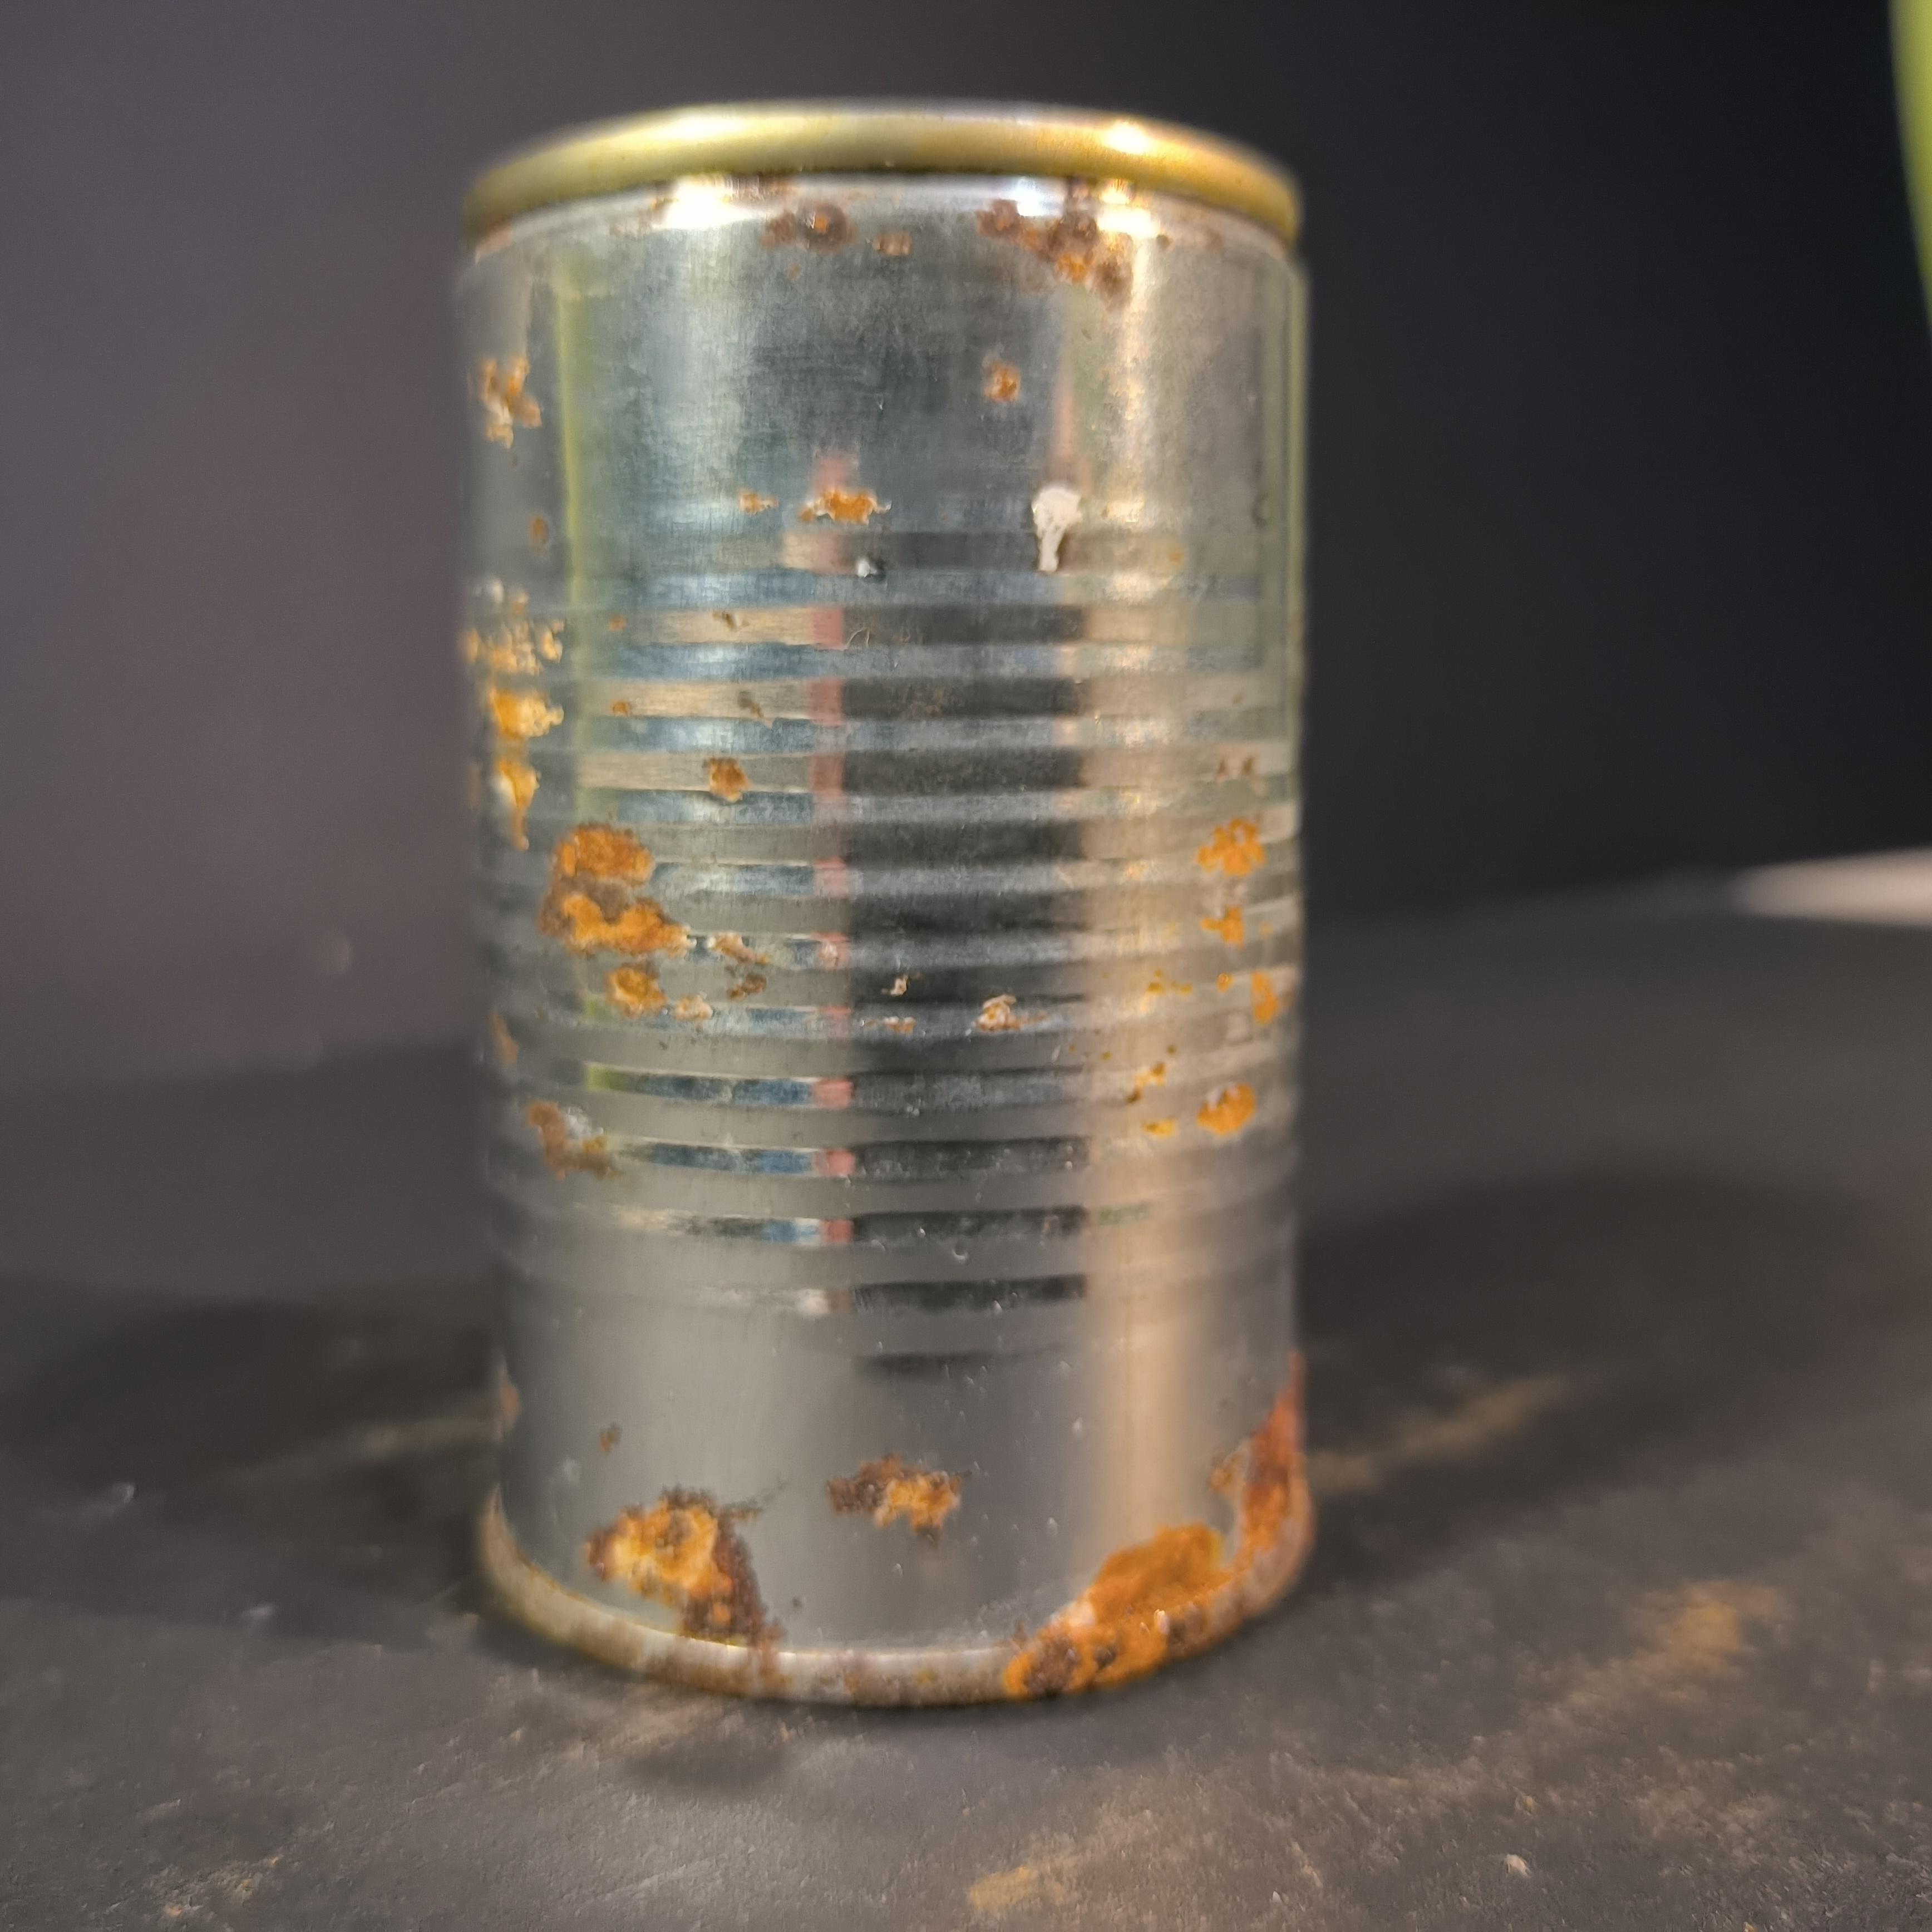Major Defect: (455, 103, 1316, 1709)
